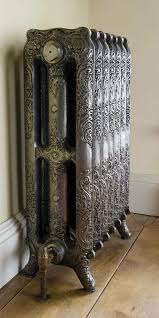Radiator: (20, 26, 135, 299)
